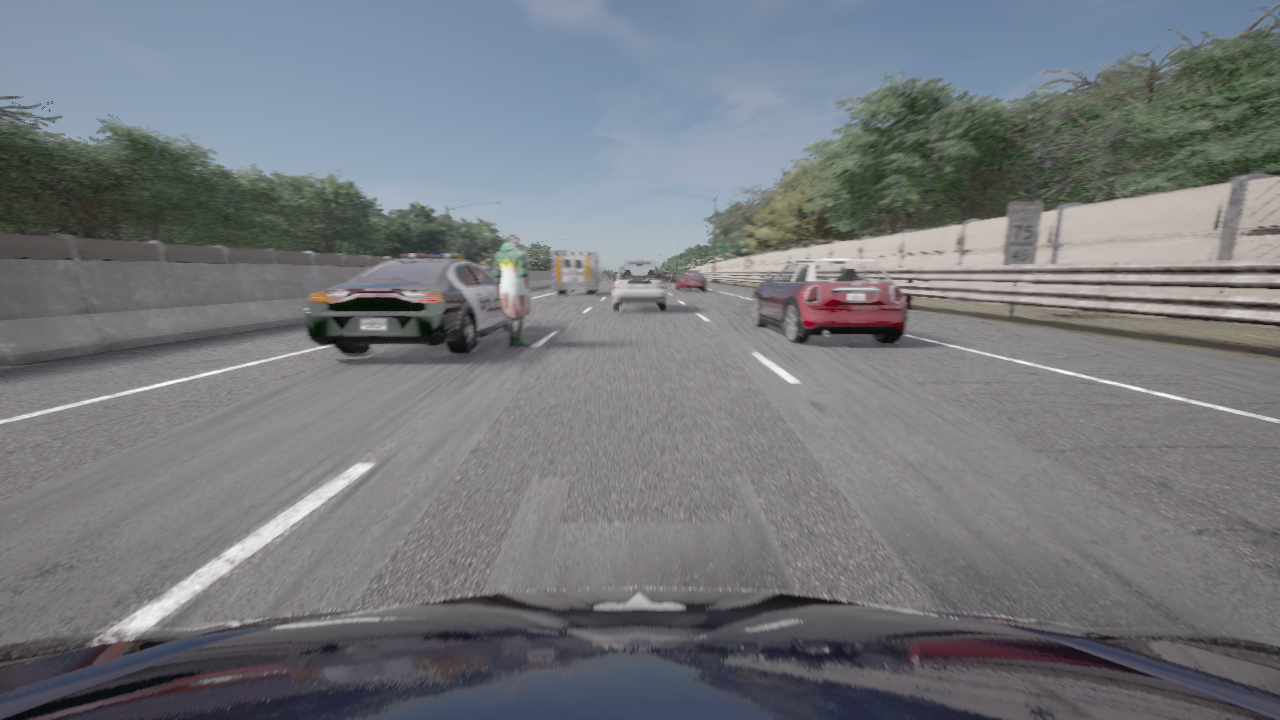cyclist: (0, 588, 1279, 719), (304, 254, 507, 353), (752, 258, 906, 343), (613, 261, 666, 311), (552, 250, 604, 294), (674, 271, 706, 291), (662, 271, 673, 282)
pedestrian: (493, 234, 531, 346), (481, 261, 491, 273)
